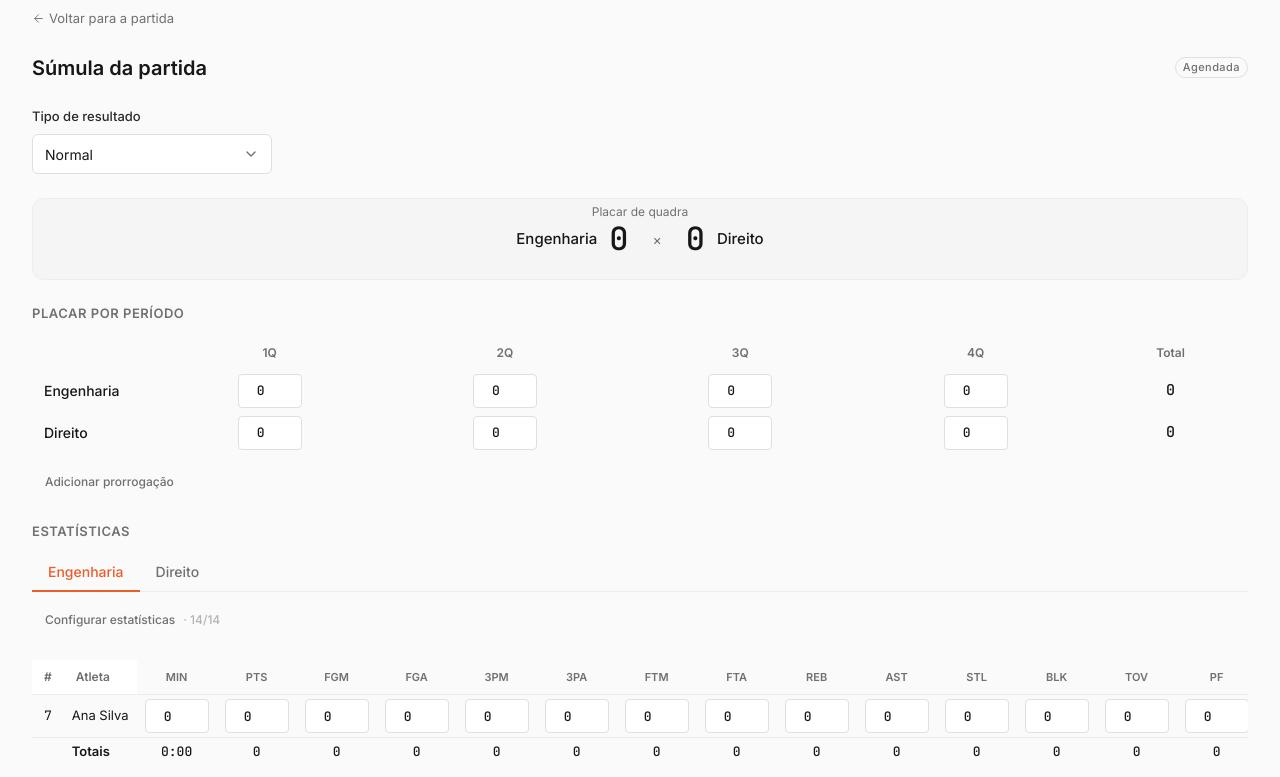
Test case: MatchSumulaPage — NORMAL result and warning › lists a separate non-blocking points warning for each divergent side
The width and height of the screenshot is (1280, 777).
Replace the text in the number field named "Engenharia — 1º período" with "1" at (261, 390), box [239,374,283,406]
(page scrolled)
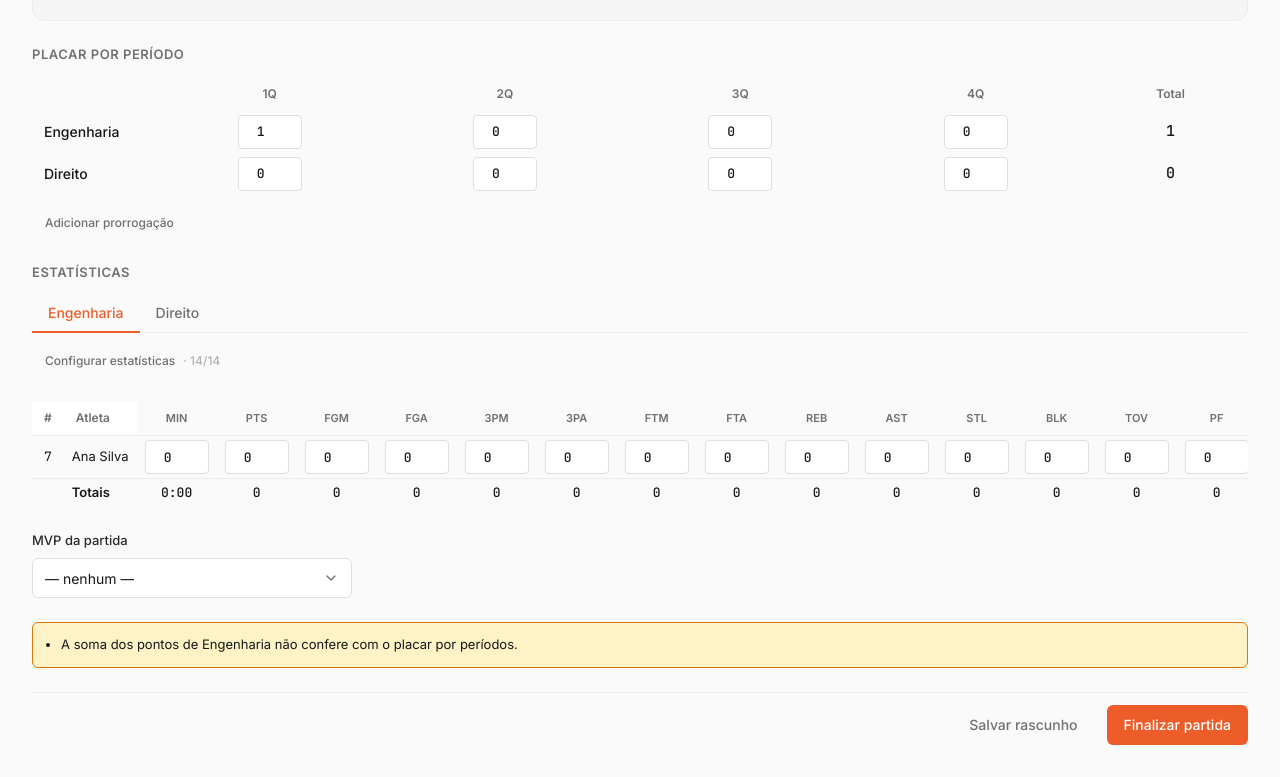
Check: the list item "A soma dos pontos de Engenharia não confere com o placar por períodos." is shown, box [61,636,518,652]
Click the button "Finalizar partida" at (1177, 724), box [1107,704,1248,744]
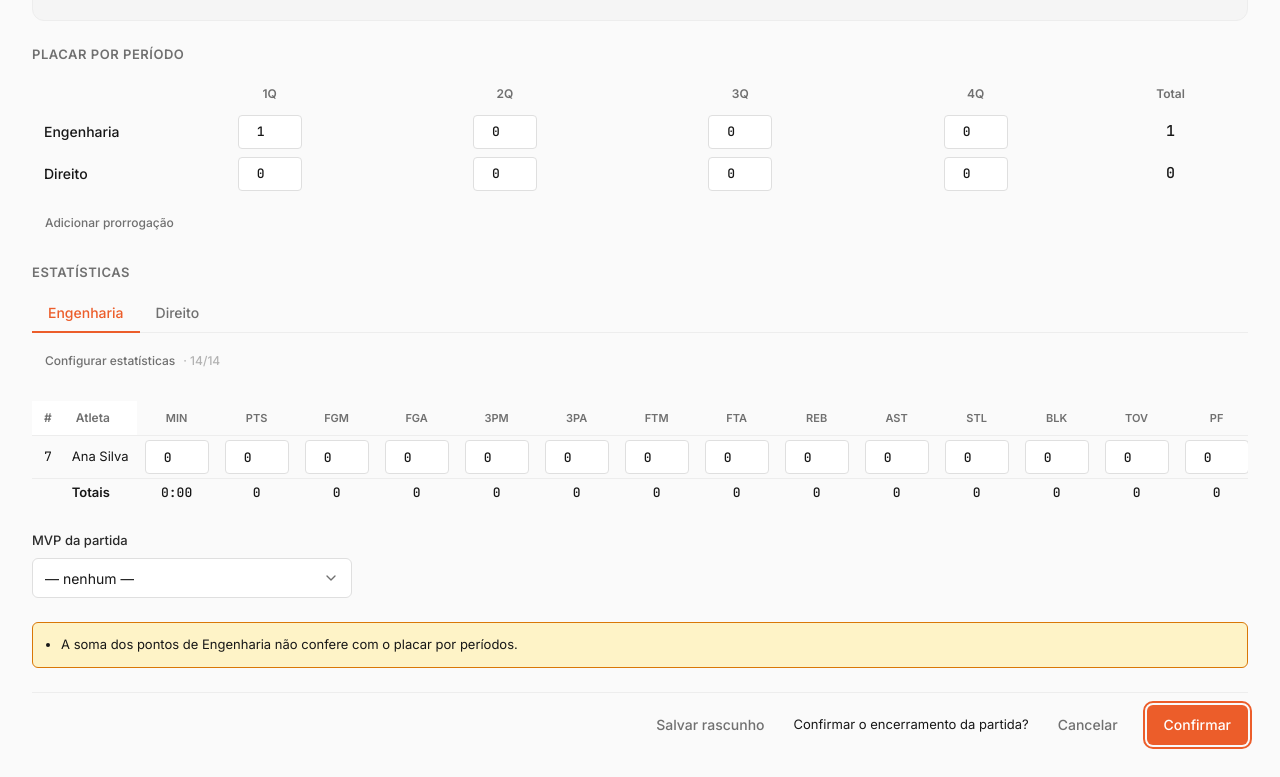
Check: the dialog named "Confirmar resultado" is shown, box [794,704,1248,744]
